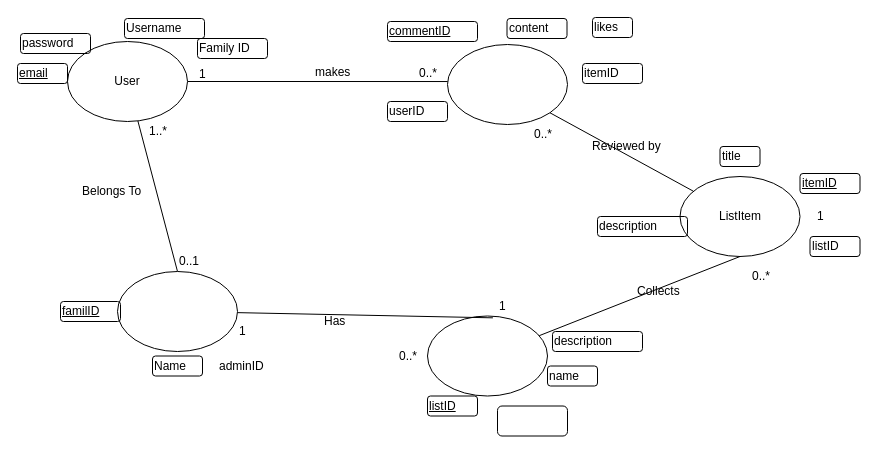
Image size: 878x455. Some labels were removed from this diagram. Here are the shapes that lost their labels. From the top down, the centre of each, then its label:
(507,84): Comment
(177,311): Family
(487,355): List
(532,420): familyID
